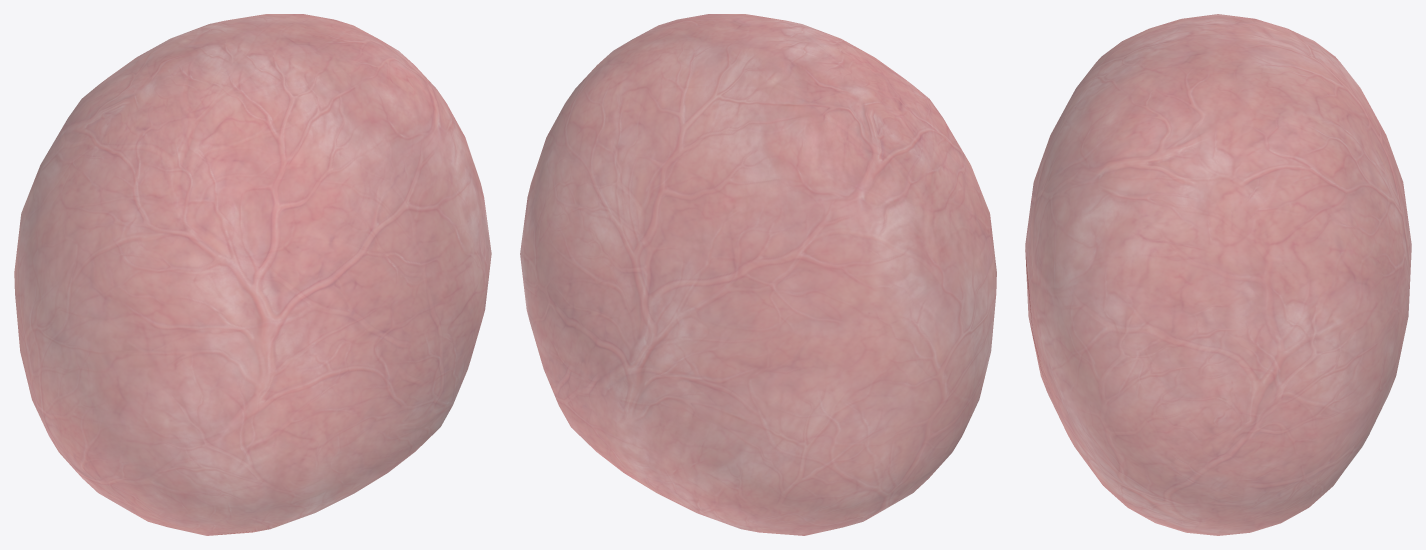
File: placenta.fbx
3 renders of one model, left to right at view 1: azimuth 30°, elevation 25°; view 2: azimuth 150°, elevation 25°; view 3: azimuth 270°, elevation 25°, orthographic.
Parts seen in each view (by area): view 1: Placenta; view 2: Placenta; view 3: Placenta.
Part boxes in pixels (x1,y1,x2,y2): Placenta: (14,14,491,535); Placenta: (520,14,996,535); Placenta: (1025,14,1411,535).
Bounding box in the file's own units: 1568 × 1716 × 1265.
